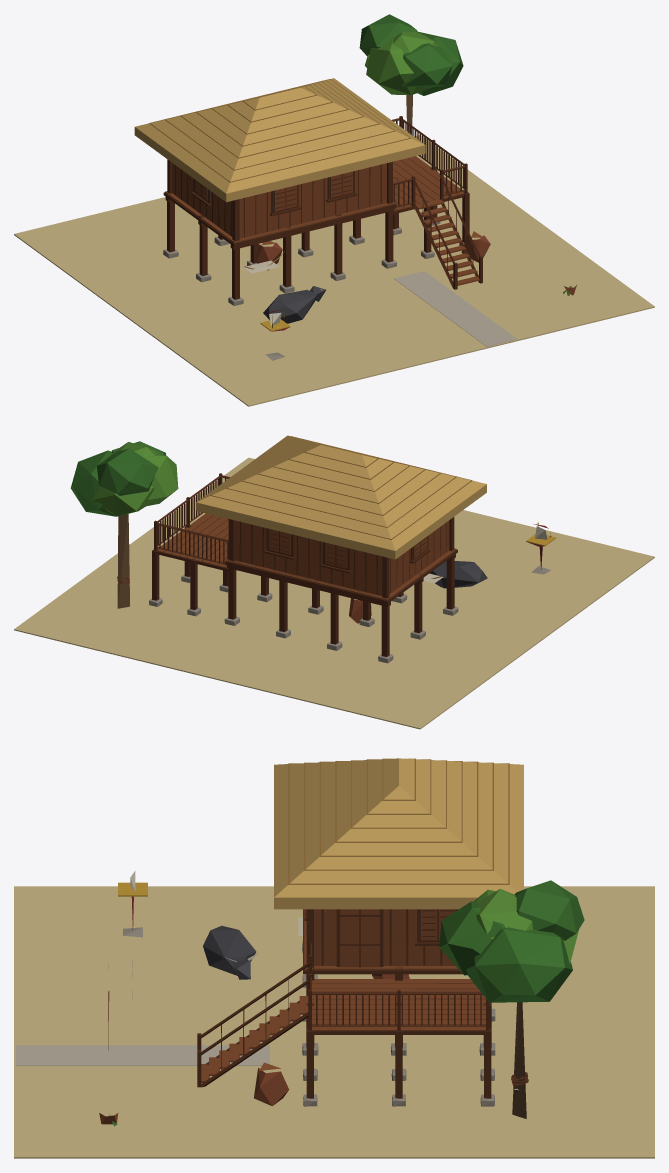
File: home_2.glb
3 renders of one model, top to bottom at view 1: azimuth 30°, elevation 25°; view 2: azimuth 150°, elevation 25°; view 3: azimuth 270°, elevation 25°, orthographic. The views are drawn at different scales.
Parts seen in each view (by area): view 1: body; view 2: body; view 3: body.
Boxes of the visible parts, x1,y1,x2,y2 form: body: [14, 14, 654, 406]; body: [14, 435, 654, 729]; body: [14, 758, 654, 1158].
Size of the model in its own units: 15.9 by 6.54 by 15.9.
